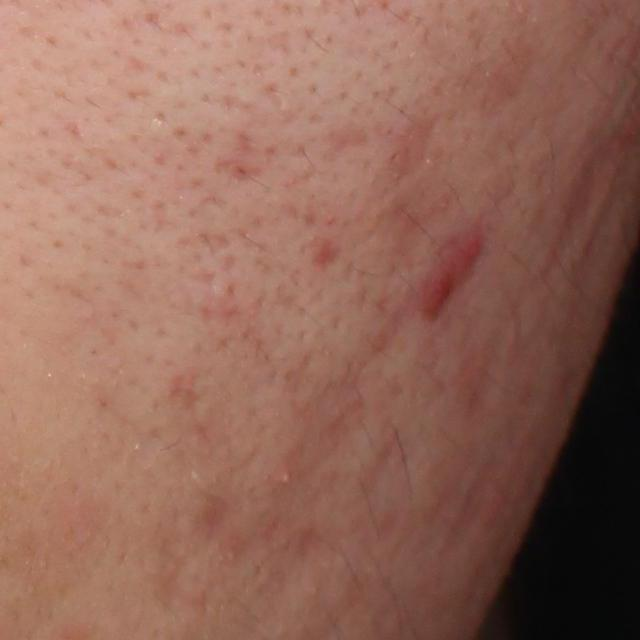atrophic_scar: (433, 344, 552, 541), (278, 308, 410, 483), (535, 133, 619, 272), (377, 189, 462, 298), (371, 109, 439, 208), (195, 487, 244, 555), (315, 119, 373, 162), (162, 364, 207, 416), (209, 153, 266, 184), (228, 124, 268, 158), (192, 230, 232, 259)
papule: (419, 268, 453, 322), (455, 226, 485, 270)
